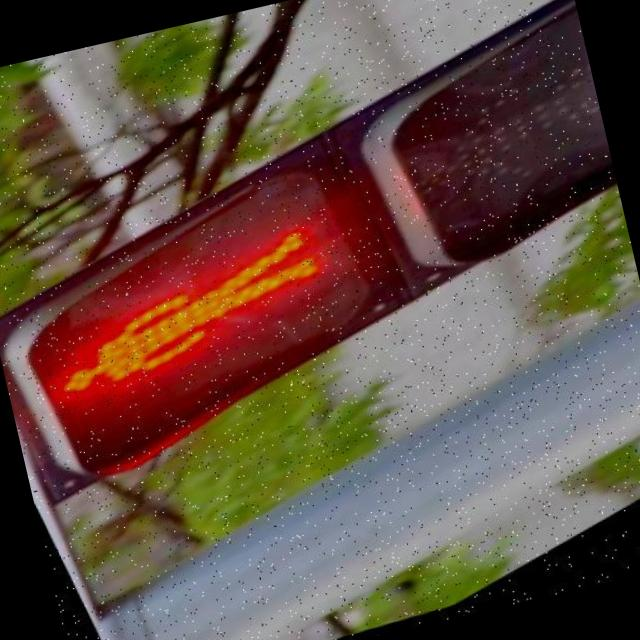red_light: (2, 168, 394, 464)
